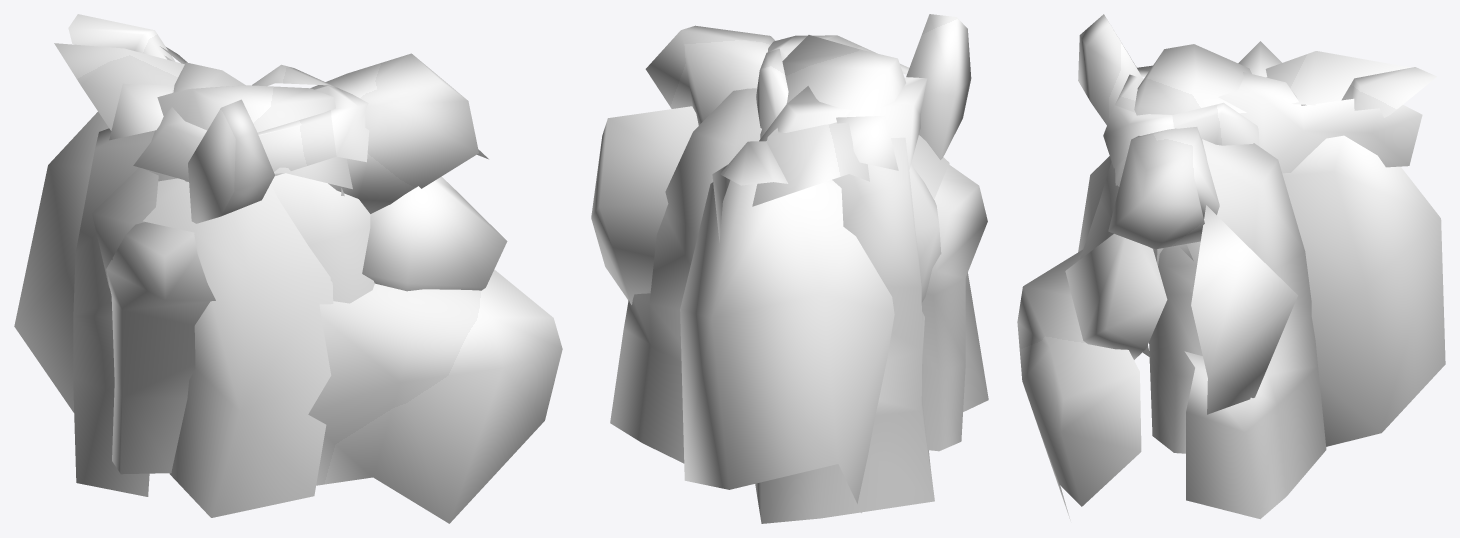
The model's file is narrow_turn_left_a.glb.
The picture shows the model from 3 angles, left to right: view 1: azimuth 30°, elevation 25°; view 2: azimuth 150°, elevation 25°; view 3: azimuth 270°, elevation 25°; orthographic projection. The views are drawn at different scales.
Visible parts, largest first — view 1: TREES; view 2: TREES; view 3: TREES.
Boxes of the visible parts, box(x1,y1,x2,y2) form: TREES: box(14, 14, 562, 523); TREES: box(591, 14, 988, 523); TREES: box(1017, 14, 1445, 520).
Size of what is drawn, in the model's own units: 5.43 by 6.04 by 5.61.
Materials: 1 (1 with a texture image).
